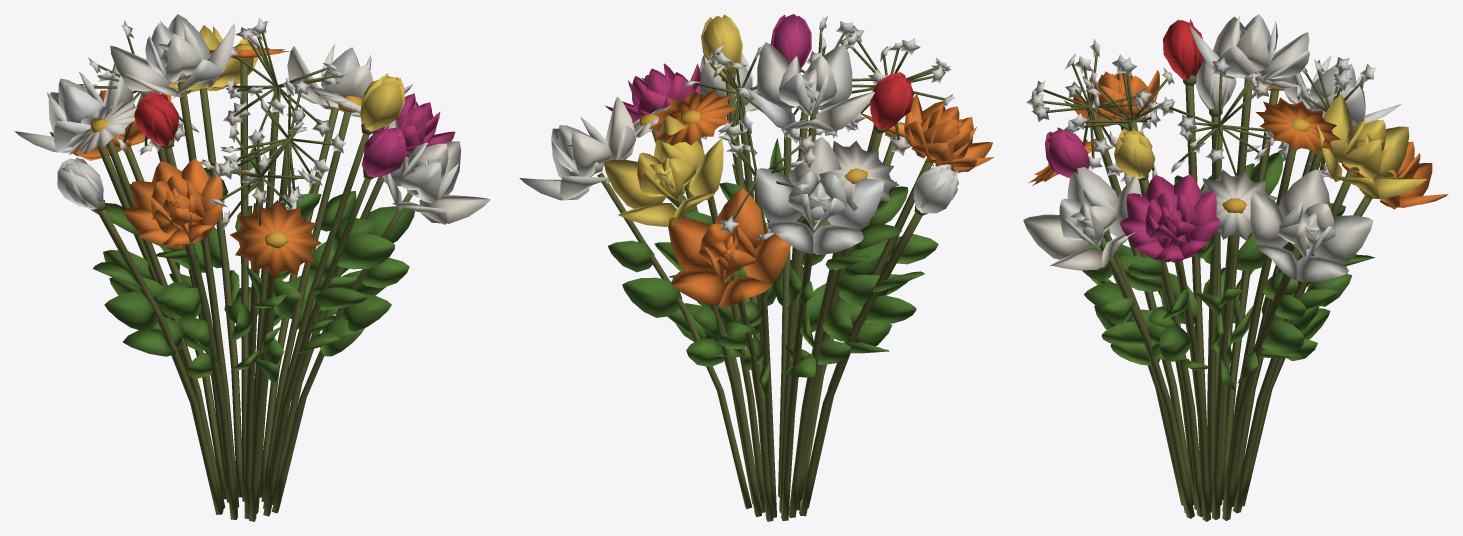
The model's file is bucket_mixed_bright.glb.
3 views of the same model, side by side, from view 1: azimuth 30°, elevation 25°; view 2: azimuth 150°, elevation 25°; view 3: azimuth 270°, elevation 25° (orthographic). The views are drawn at different scales.
Visible parts, largest first — view 1: Sammel Pflanze, Sammel Putz; view 2: Sammel Pflanze, Sammel Putz; view 3: Sammel Pflanze, Sammel Putz.
Boxes of the visible parts, x1=… form: Sammel Pflanze: x1=14, y1=14, x2=490, y2=383; Sammel Putz: x1=92, y1=29, x2=412, y2=521; Sammel Pflanze: x1=519, y1=14, x2=993, y2=398; Sammel Putz: x1=597, y1=30, x2=944, y2=521; Sammel Pflanze: x1=1023, y1=14, x2=1448, y2=390; Sammel Putz: x1=1043, y1=53, x2=1371, y2=521.
Bounding box in the file's own units: 0.4333 × 0.5234 × 0.4318.
